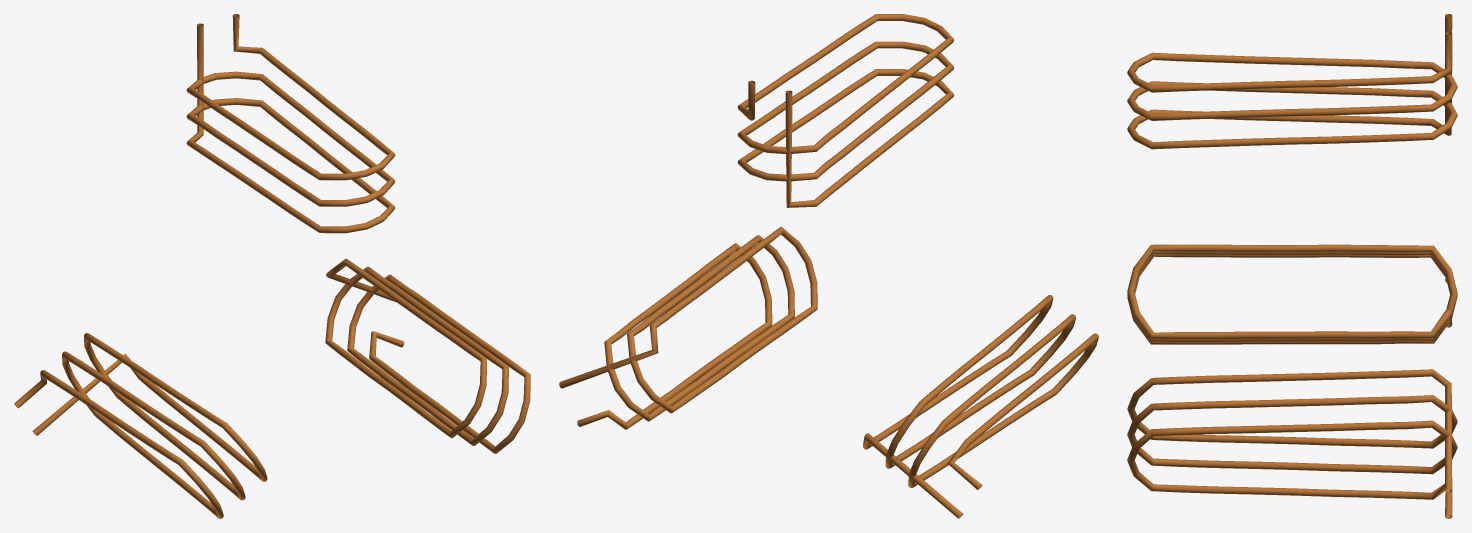
Rendered from DCblCoil2.glb.
The picture shows the model from 3 angles, left to right: view 1: azimuth 30°, elevation 25°; view 2: azimuth 150°, elevation 25°; view 3: azimuth 270°, elevation 25°; orthographic projection. The views are drawn at different scales.
Parts seen in each view (by area): view 1: Spiral.004, Spiral.001, Spiral.002; view 2: Spiral.004, Spiral.001, Spiral.002; view 3: Spiral.001, Spiral.004, Spiral.002.
Boxes of the visible parts, x1=… form: Spiral.004: x1=186, y1=14, x2=395, y2=233; Spiral.001: x1=325, y1=258, x2=530, y2=453; Spiral.002: x1=14, y1=333, x2=267, y2=518; Spiral.004: x1=737, y1=14, x2=954, y2=207; Spiral.001: x1=559, y1=227, x2=817, y2=429; Spiral.002: x1=863, y1=295, x2=1098, y2=518; Spiral.001: x1=1127, y1=369, x2=1457, y2=518; Spiral.004: x1=1127, y1=14, x2=1457, y2=149; Spiral.002: x1=1127, y1=244, x2=1457, y2=344.
Size of the model in its own units: 6.85 by 6 by 4.5.
